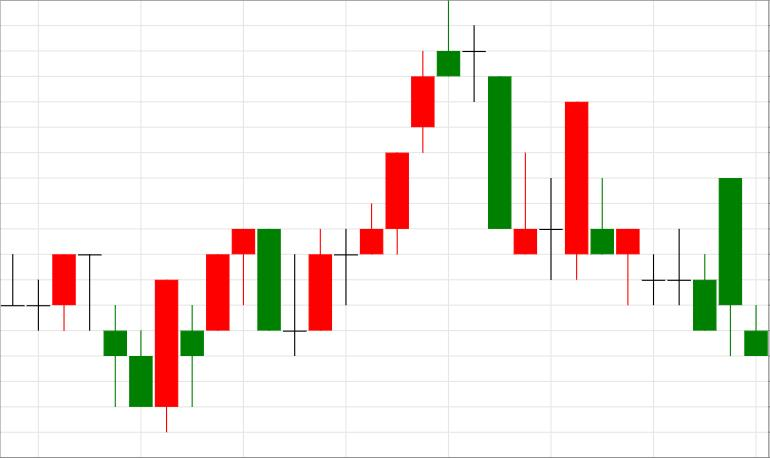shooting_star_fall: (283, 0, 460, 356)
